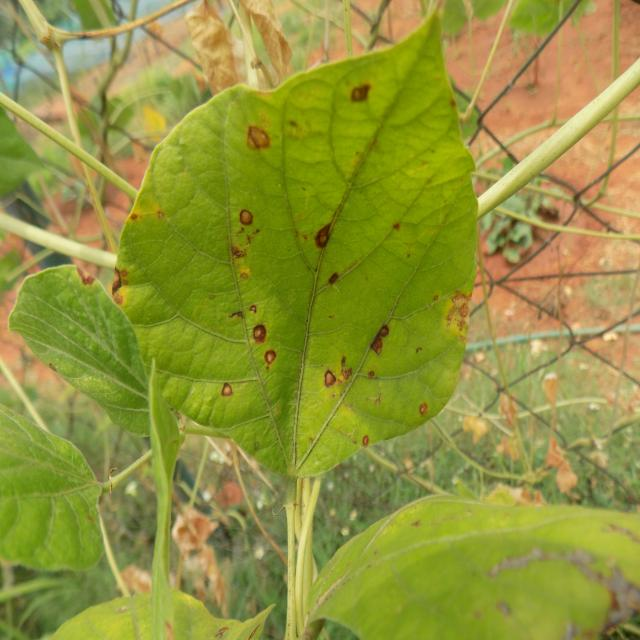Dolicos bean_cercospora leaf spot: (116, 5, 483, 487)
